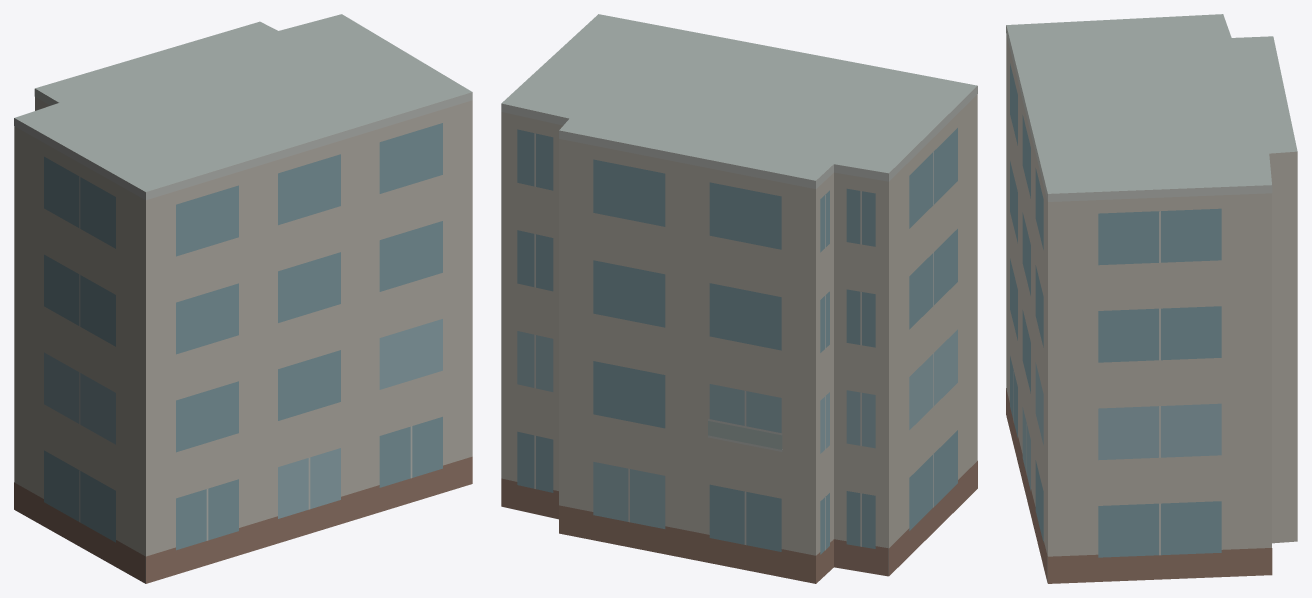
File: survey-upis-32963486.glb
3 renders of one model, left to right at view 1: azimuth 30°, elevation 25°; view 2: azimuth 150°, elevation 25°; view 3: azimuth 270°, elevation 25°, orthographic. The views are drawn at different scales.
Parts seen in each view (by area): view 1: survey-upis-32963486.tmp; view 2: survey-upis-32963486.tmp; view 3: survey-upis-32963486.tmp.
Part boxes in pixels (x1,y1,x2,y2): survey-upis-32963486.tmp: (14, 14, 472, 583); survey-upis-32963486.tmp: (501, 14, 977, 583); survey-upis-32963486.tmp: (1006, 14, 1297, 583).
Bounding box in the file's own units: 11.59 × 11.7 × 7.93.
